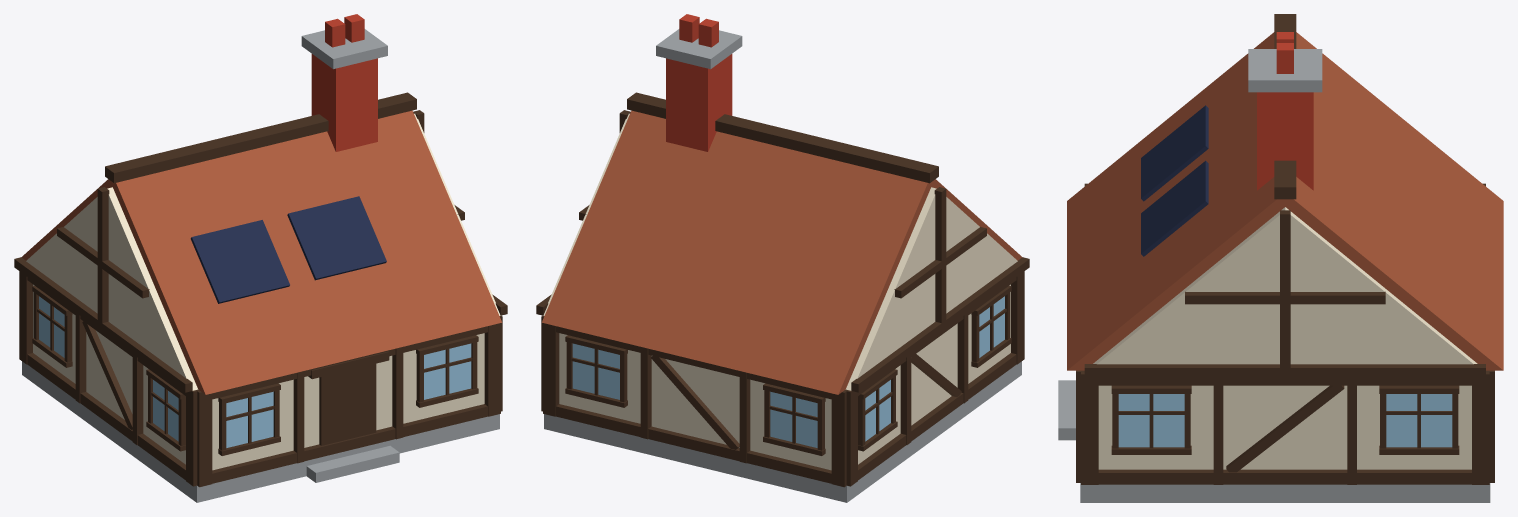
The model's file is house-1x1-1f-tudor-a-solar.glb.
3 renders of one model, left to right at view 1: azimuth 30°, elevation 25°; view 2: azimuth 150°, elevation 25°; view 3: azimuth 270°, elevation 25°, orthographic. The views are drawn at different scales.
Parts seen in each view (by area): view 1: house-1x1-1f-tudor-a-solar; view 2: house-1x1-1f-tudor-a-solar; view 3: house-1x1-1f-tudor-a-solar.
Boxes of the visible parts, x1=… form: house-1x1-1f-tudor-a-solar: x1=14, y1=14, x2=507, y2=502; house-1x1-1f-tudor-a-solar: x1=536, y1=14, x2=1029, y2=502; house-1x1-1f-tudor-a-solar: x1=1058, y1=14, x2=1503, y2=502.
Bounding box in the file's own units: 1 × 1.07 × 1.02.
1 material, 1 textured.
